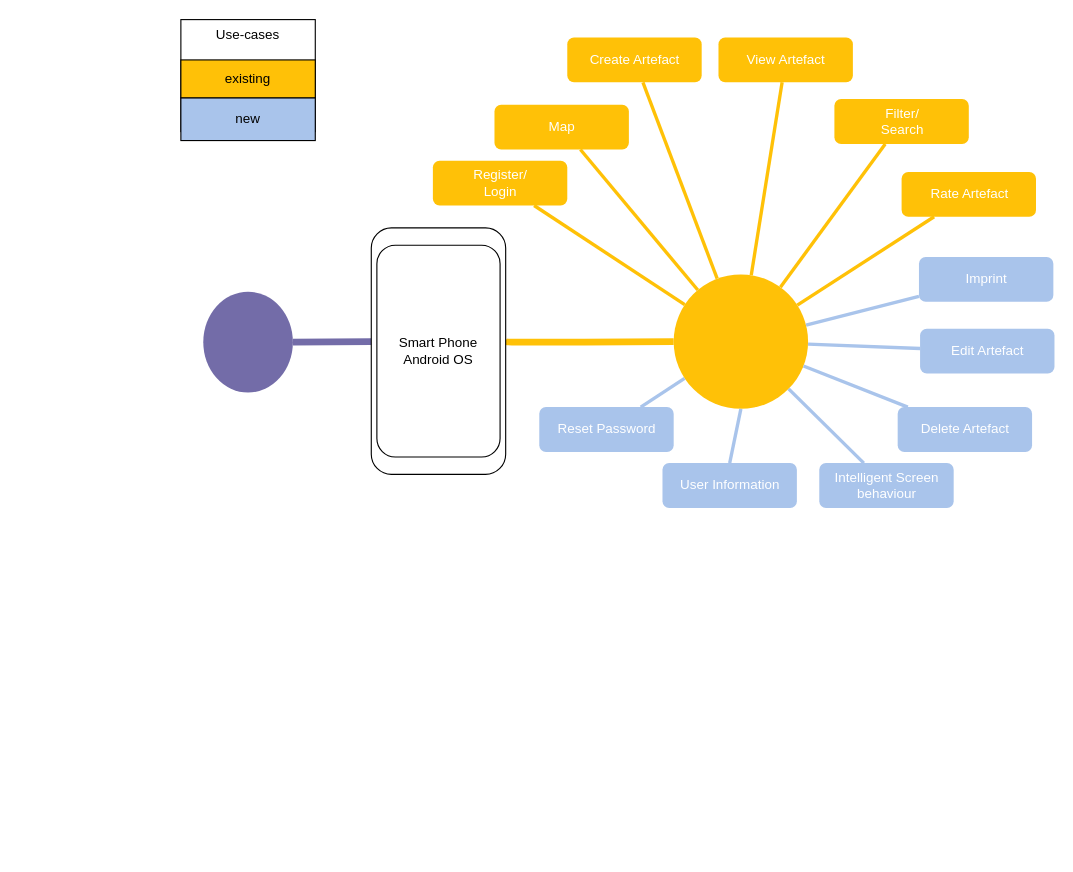
This 1073x872 diagram has some shape labels left out. Here are the shapes that lost their labels. From the top down, the centre of each, then its label:
(x=247, y=341): User
(x=740, y=341): Civitas App
